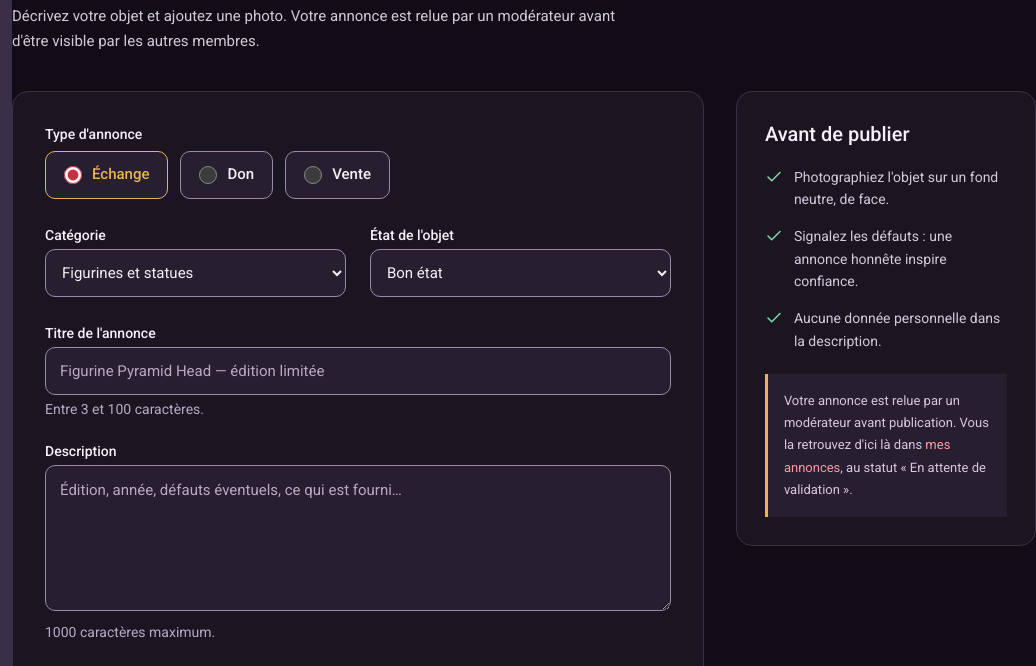
Test: ListingForm › type d annonce › affiche le prix pour une vente et masque la contrepartie
Click the radio button labelled "Vente" at (313, 174), box [304,166,322,184]
(page scrolled)
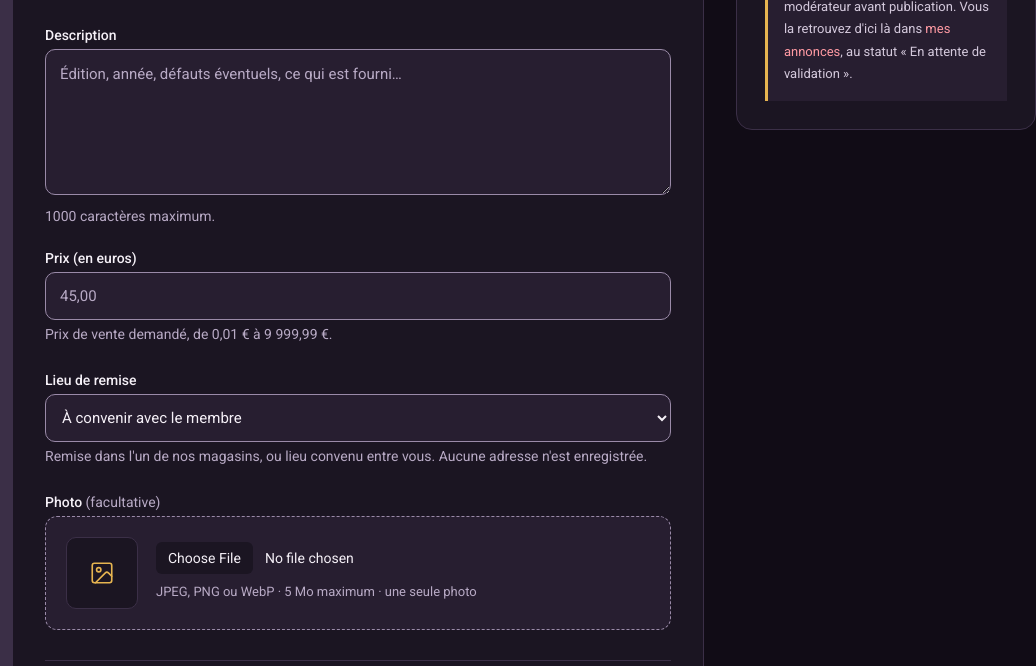
Result: the field labelled "Prix (en euros)" is shown at [45,272,671,320]
